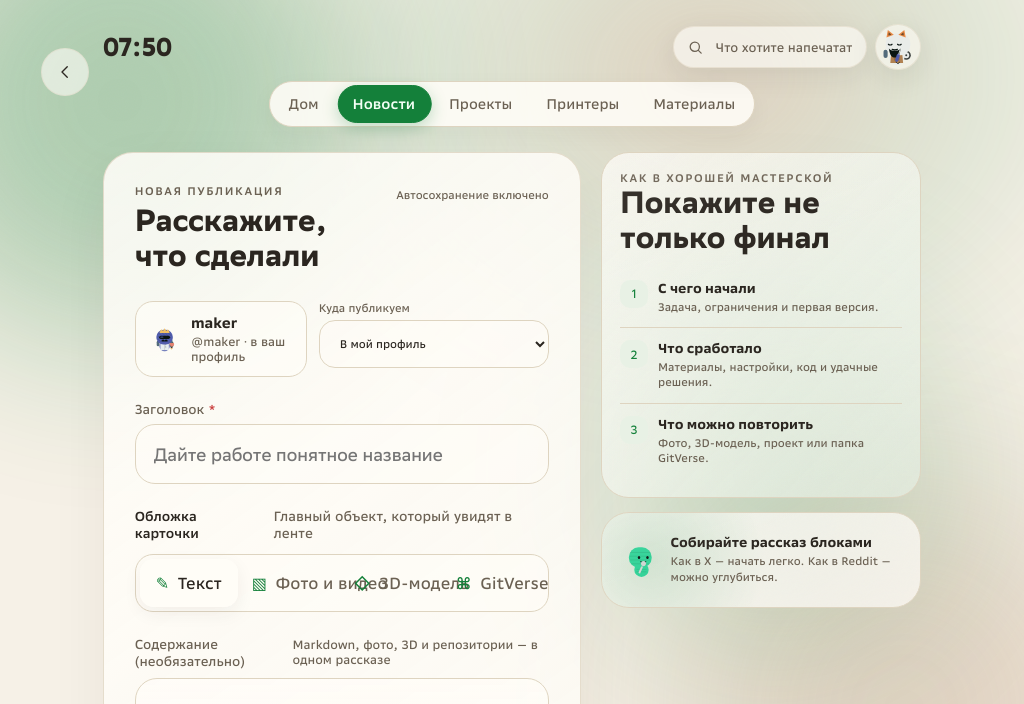
Test: FeedEditorScreen — дизайн-ревью MF-1752 › показывает выбранный саб как контекст редактора
Select "3D-печать" in the dropdown labelled "Куда публикуем". click: (434, 344)
box: [319, 320, 549, 368]
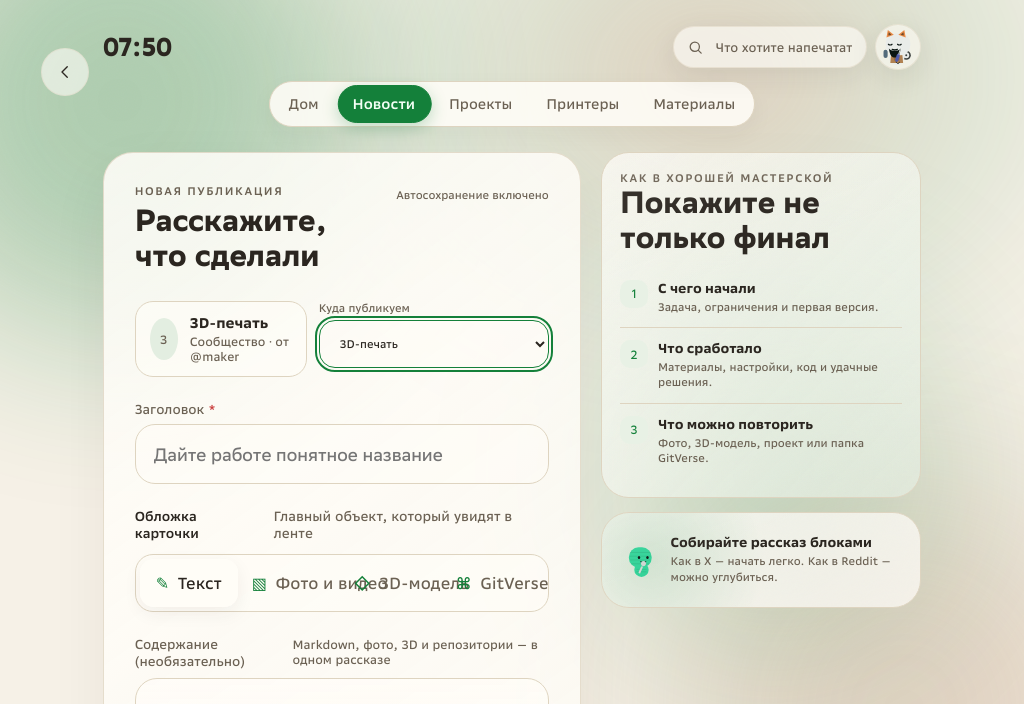
Expected: the text "Сообщество · от @maker" is shown, [190, 334, 292, 364]
